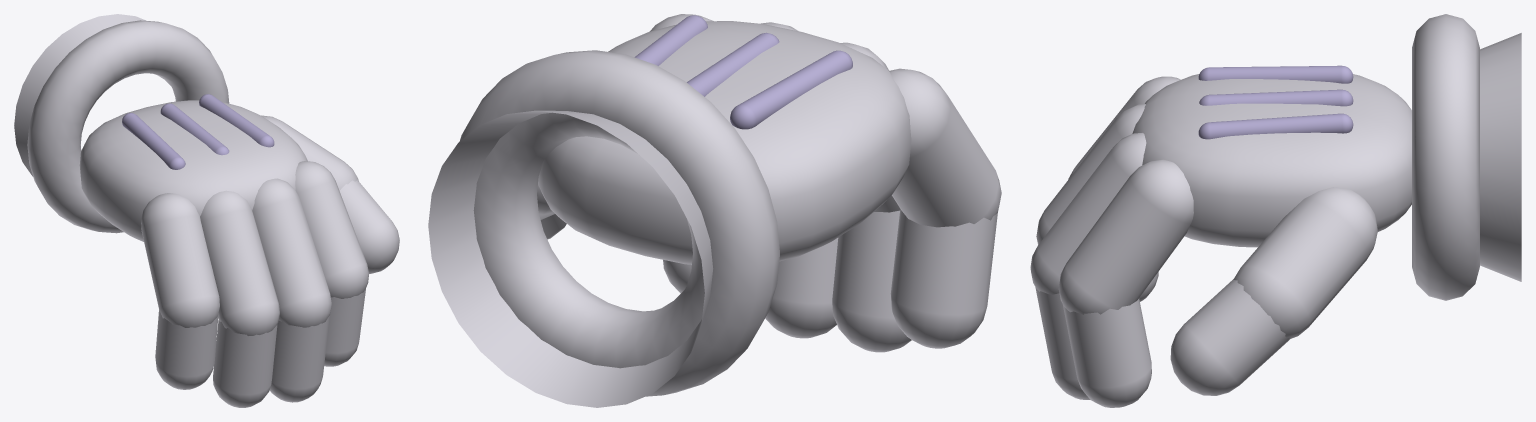
Rendered from Glove_Grab.obj.
3 renders of one model, left to right at view 1: azimuth 30°, elevation 25°; view 2: azimuth 150°, elevation 25°; view 3: azimuth 270°, elevation 25°, orthographic. The views are drawn at different scales.
Parts seen in each view (by area): view 1: Hand, Cuff, Seam; view 2: Hand, Cuff, Seam; view 3: Hand, Cuff, Seam.
Part boxes in pixels (left/top/right/bottom): Hand: left=79, top=100, right=399, bottom=407; Cuff: left=14, top=14, right=229, bottom=233; Seam: left=122, top=94, right=274, bottom=169; Hand: left=537, top=14, right=1001, bottom=352; Cuff: left=428, top=50, right=779, bottom=407; Seam: left=634, top=15, right=852, bottom=129; Hand: left=1030, top=74, right=1411, bottom=407; Cuff: left=1412, top=14, right=1521, bottom=300; Seam: left=1198, top=65, right=1353, bottom=139.
Bounding box in the file's own units: 0.2135 × 0.2068 × 0.2599.
